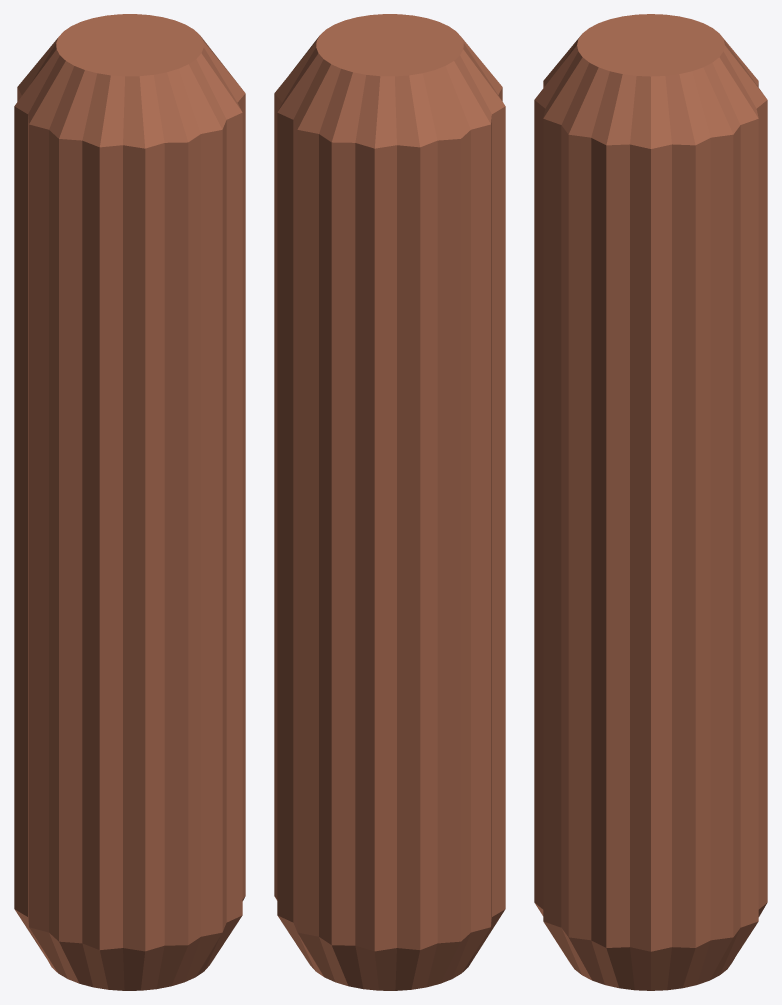
The model's file is Peg.fbx.
3 renders of one model, left to right at view 1: azimuth 30°, elevation 25°; view 2: azimuth 150°, elevation 25°; view 3: azimuth 270°, elevation 25°, orthographic.
Visible parts, largest first — view 1: Cylinder; view 2: Cylinder; view 3: Cylinder.
Part boxes in pixels (x1,y1,x2,y2): Cylinder: (14,14,245,990); Cylinder: (274,14,505,990); Cylinder: (534,14,767,990).
Size of the model in its own units: 24.4 by 105 by 24.4.
